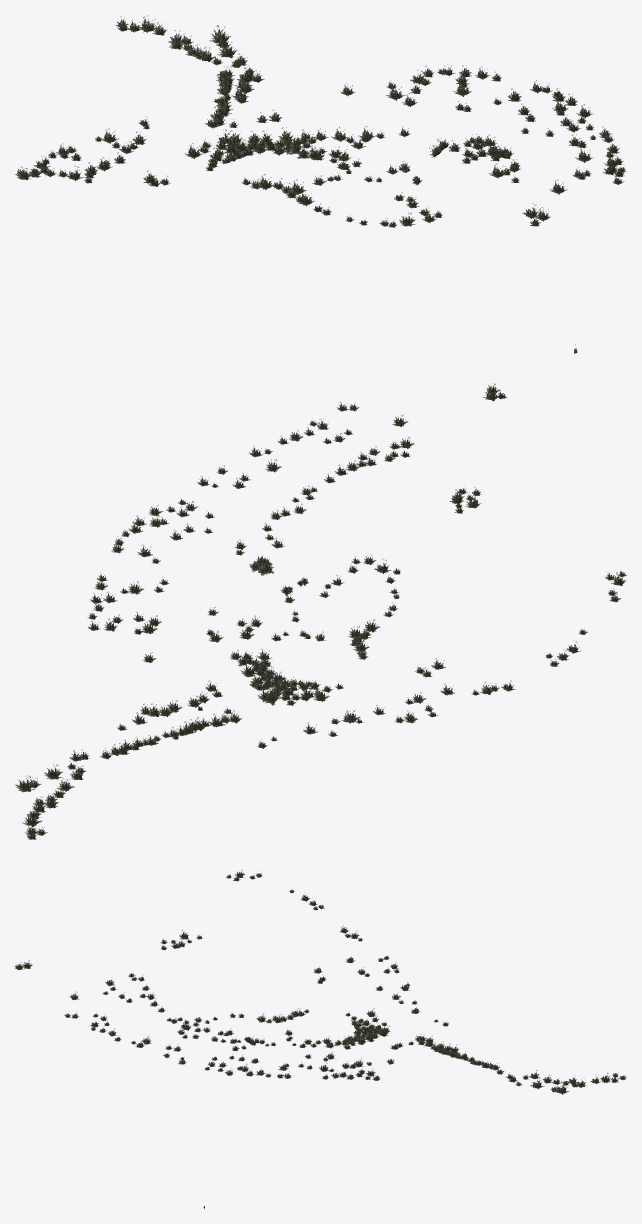
The model's file is grass01.fbx.
The picture shows the model from 3 angles, top to bottom: view 1: azimuth 30°, elevation 25°; view 2: azimuth 150°, elevation 25°; view 3: azimuth 270°, elevation 25°; orthographic projection. The views are drawn at different scales.
Parts seen in each view (by area): view 1: m001200_0:2, m001200_0:1, m001200_0:3; view 2: m001200_0:2, m001200_0:1, m001200_0:3; view 3: m001200_0:2, m001200_0:1, m001200_0:3.
Part boxes in pixels (x1,y1,x2,y2): m001200_0:2: (241, 80, 626, 353); m001200_0:1: (116, 15, 501, 160); m001200_0:3: (15, 106, 293, 186); m001200_0:2: (111, 383, 507, 710); m001200_0:1: (15, 572, 272, 839); m001200_0:3: (194, 571, 626, 748); m001200_0:2: (15, 930, 331, 1208); m001200_0:1: (322, 1035, 626, 1094); m001200_0:3: (226, 869, 448, 1051).
Bounding box in the file's own units: 207663 × 109684 × 316537.
3 materials, 3 textured.
